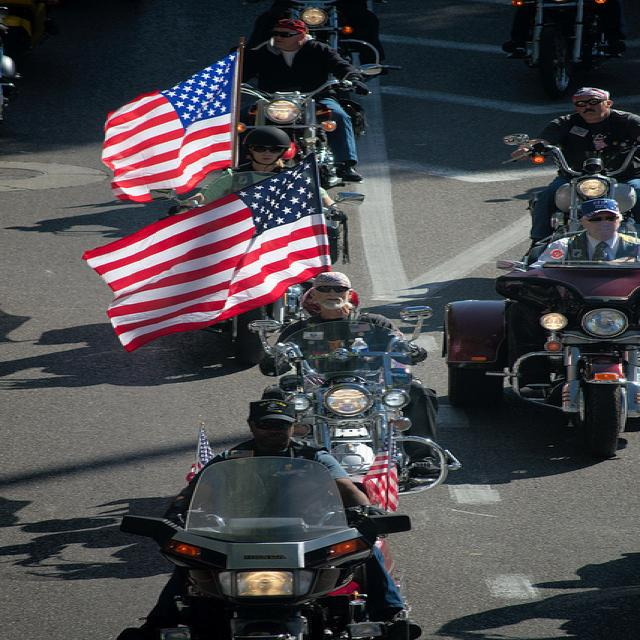motor: (112, 454, 412, 633), (433, 252, 640, 465), (189, 173, 369, 339), (274, 329, 415, 512), (501, 133, 640, 244), (240, 83, 370, 152), (285, 0, 378, 70), (245, 288, 310, 373)
